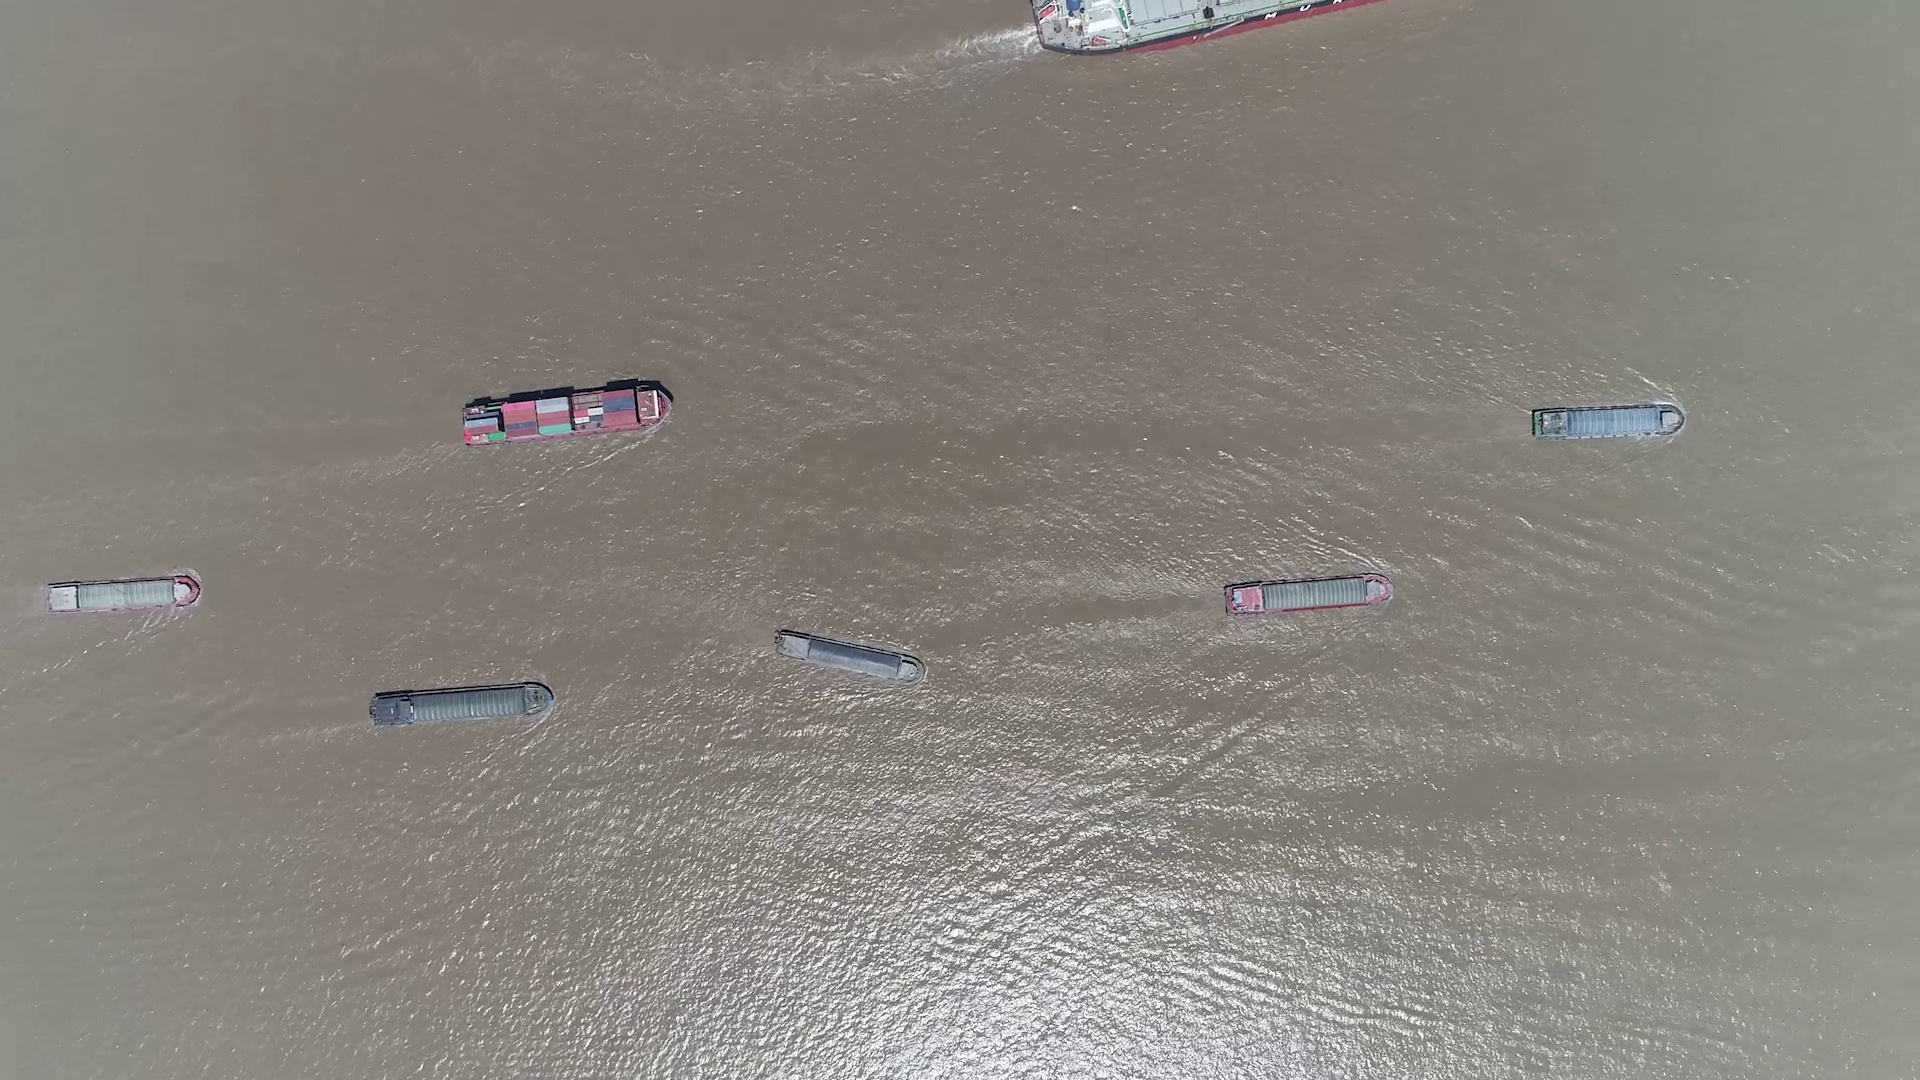ship: (1029, 1, 1387, 49), (462, 380, 675, 444), (371, 682, 553, 727), (773, 629, 923, 683), (1226, 572, 1394, 616), (46, 576, 200, 613), (1531, 404, 1684, 440)
